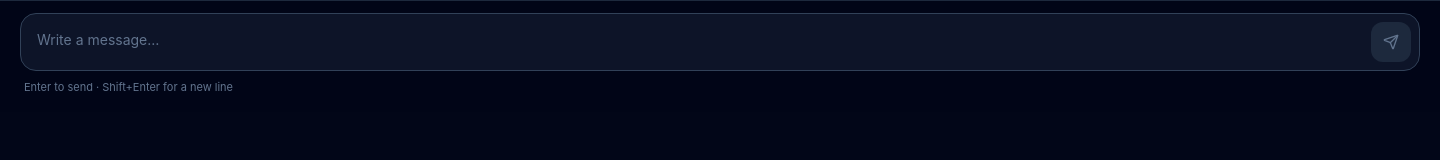
Test: MessageComposer › keeps the draft and reports queue errors until the user edits it
Type "Not sent" into the text box labelled "Write a message" at (696, 42), box x1=29 y1=22 x2=1363 y2=62
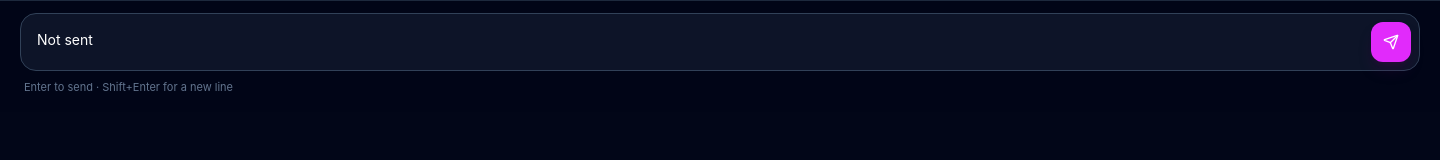
Click the button named "Send message" at (1391, 42), box x1=1371 y1=22 x2=1411 y2=62
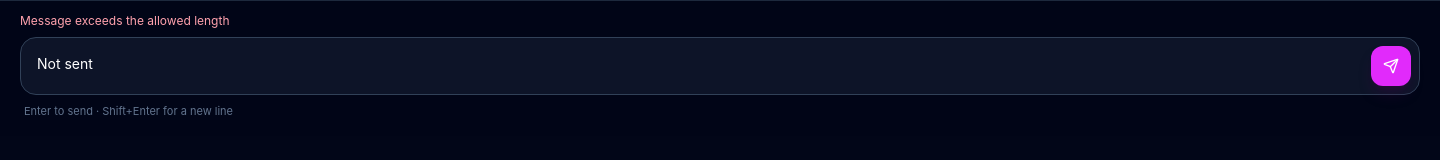
Now the message reads "Message exceeds the allowed length", box x1=20 y1=13 x2=230 y2=28
Replace the text in the text box named "Write a message" with "Try again" at (696, 66), box x1=29 y1=46 x2=1363 y2=86
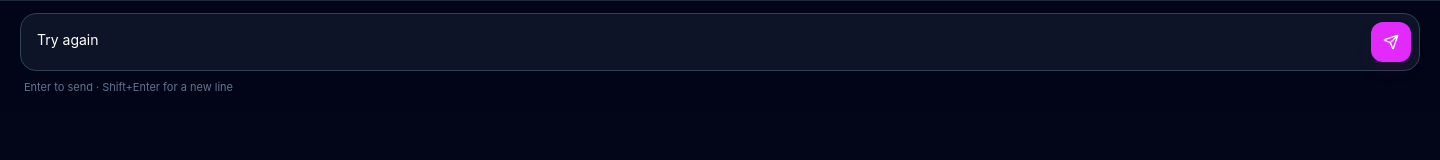
Now the message "Message exceeds the allowed length" is gone
Click the button named "Send message" at (1391, 42), box x1=1371 y1=22 x2=1411 y2=62
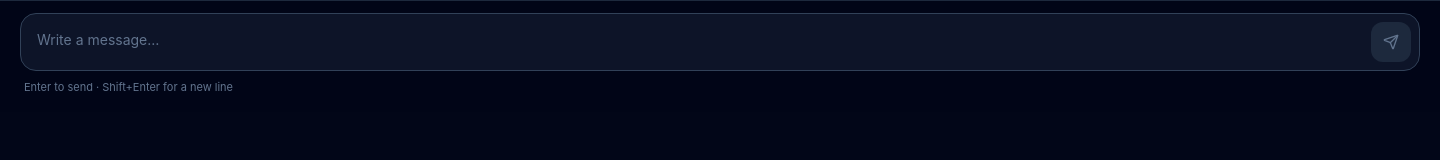
Now the text box labelled "Write a message" is empty, box x1=29 y1=22 x2=1363 y2=62
